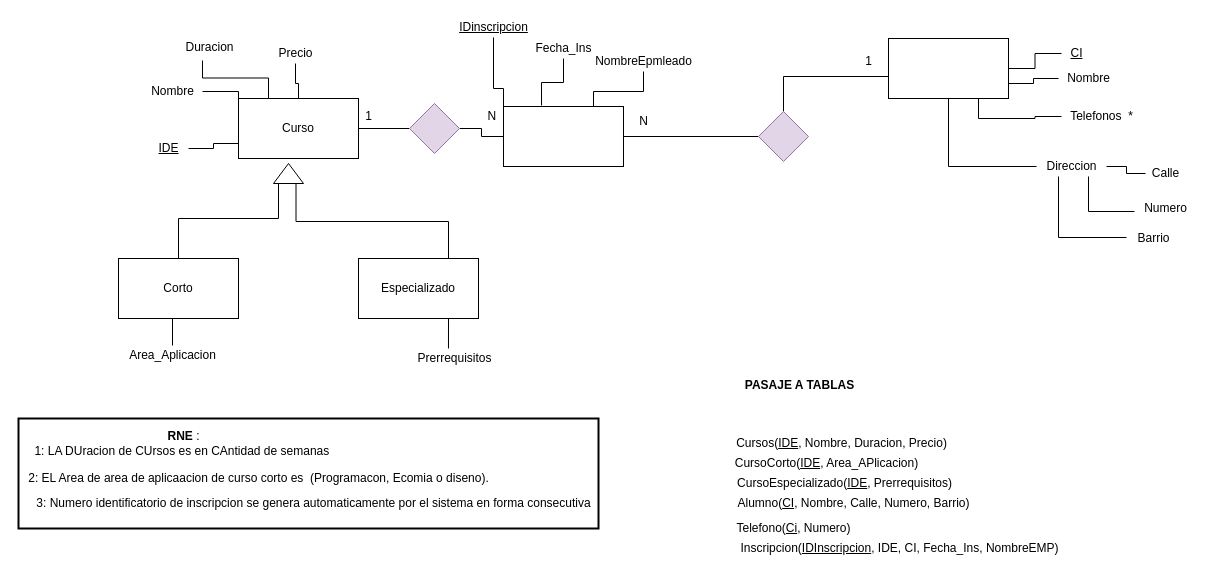
Image size: 1212x575. Some labels were removed from this diagram. Each missing label, with the box of its shape:
Alumno: (888, 38, 1008, 98)
Inscripcion: (502, 106, 624, 166)
